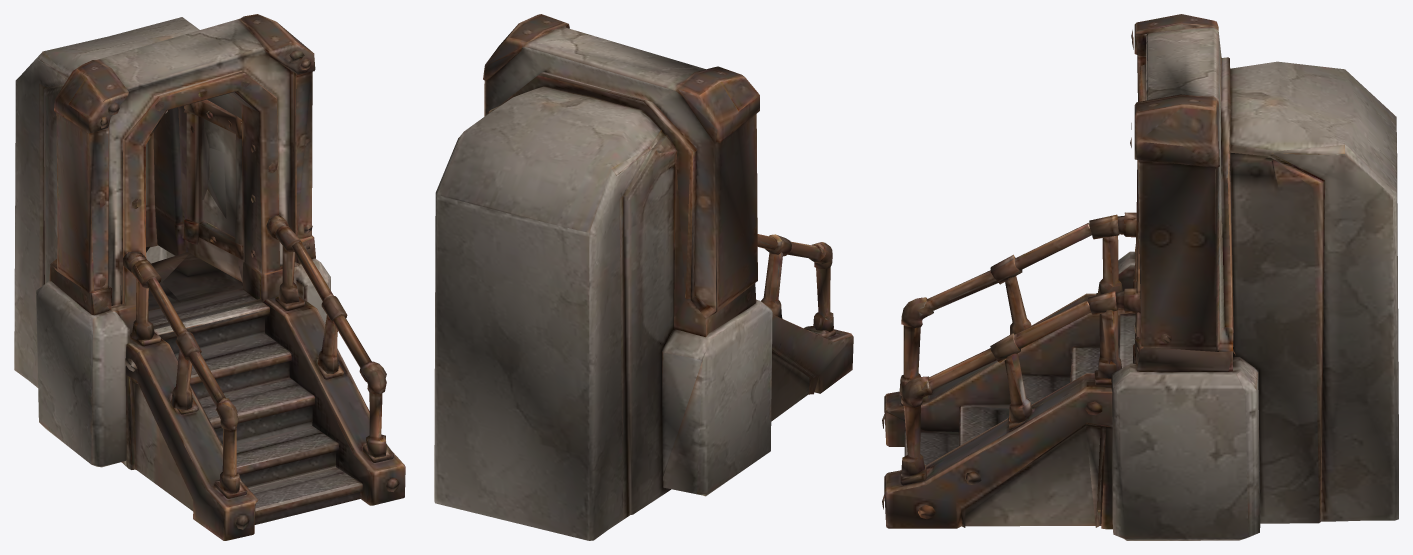
Rendered from bunker_stairs.glb.
The picture shows the model from 3 angles, left to right: view 1: azimuth 30°, elevation 25°; view 2: azimuth 150°, elevation 25°; view 3: azimuth 270°, elevation 25°; orthographic projection. The views are drawn at different scales.
Bounding box in the file's own units: 0.253 × 0.3823 × 0.4214.
Materials: 1 (1 with a texture image).
